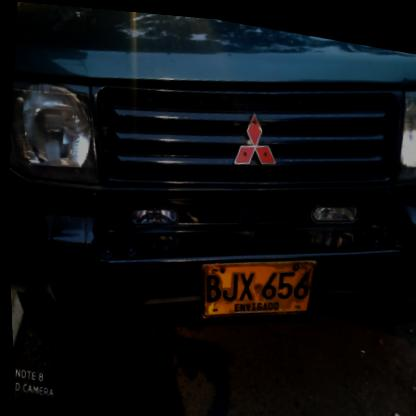placa: (189, 233, 322, 336)
